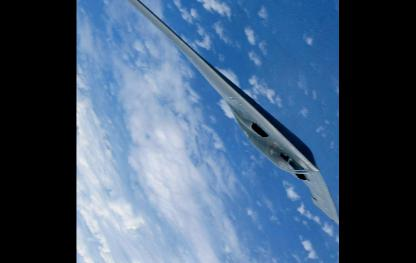B1: (77, 0, 339, 229)
